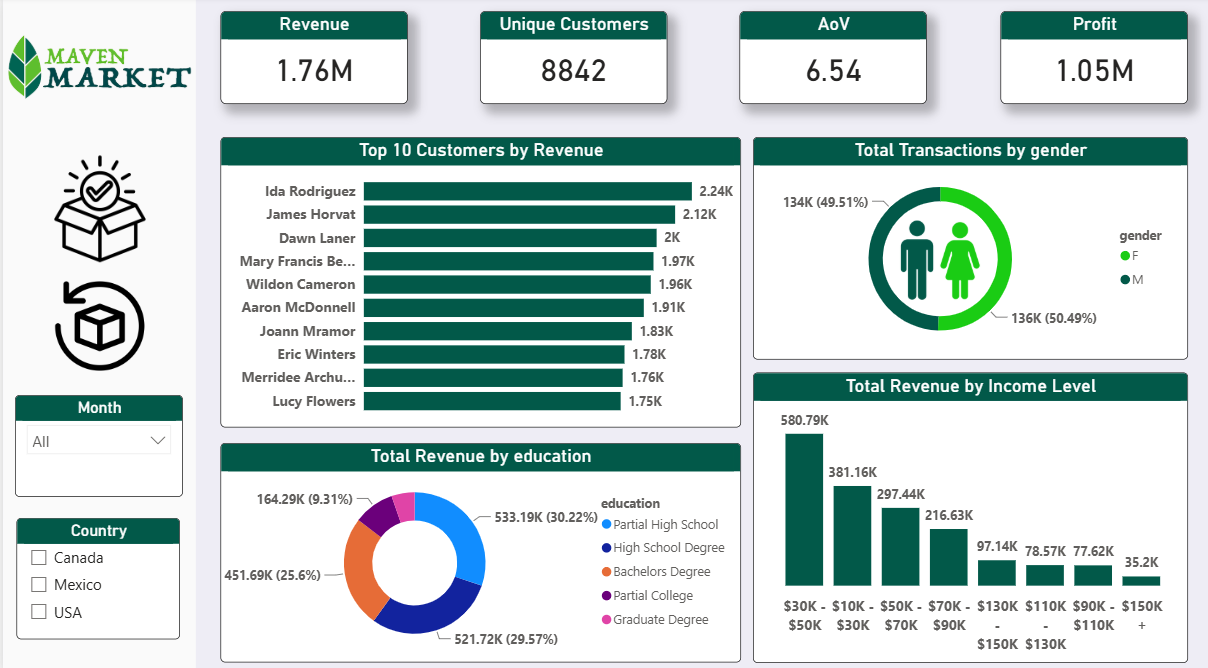

The dashboard page shown, as its layout file describes it:
{"tool":"powerbi","page":{"name":"Customers","canvas":[1280,720],"ordinal":3},"visuals":[{"type":"image","box":[0,0,203.3,150],"z":0},{"type":"card","title":"Revenue","fields":{"Values":["_measures.Total Revenue"]},"box":[230,16.7,198.3,98.3],"z":1000},{"type":"card","title":"AoV","fields":{"Values":["_measures.Average orderr value"]},"box":[781.7,15.9,198.8,98.6],"z":2000},{"type":"card","title":"Profit","fields":{"Values":["_measures.Profit"]},"box":[1057.8,15.9,198.8,98.6],"z":3000},{"type":"card","title":"Unique Customers","fields":{"Values":["_measures.Total Unique Cust"]},"box":[505.6,15.9,198.8,98.6],"z":4000},{"type":"clusteredBarChart","title":"Top 10 Customers by Revenue","fields":{"Y":["_measures.Total Revenue"],"Category":["DimCustomers.Full_Name"]},"box":[230.6,149.3,551.8,308],"z":5000},{"type":"clusteredColumnChart","title":"Total Revenue by Income Level","fields":{"Category":["DimCustomers.yearly_income"],"Y":["_measures.Total Revenue"]},"box":[795.6,398.7,461.1,308],"z":6000},{"type":"donutChart","fields":{"Category":["DimCustomers.education"],"Y":["_measures.Total Revenue"]},"box":[230.6,474.3,551.8,232.4],"z":7000},{"type":"donutChart","fields":{"Category":["DimCustomers.gender"],"Y":["_measures.Total Transactions"]},"box":[795.6,149.3,461.1,236.2],"z":8000},{"type":"image","box":[927.3,227.5,84.3,105],"z":9000},{"type":"image","box":[971.9,216.3,85.9,128.8],"z":10000},{"type":"slicer","title":"Country","fields":{"Values":["DimStores.store_country"]},"box":[14.3,553.5,173.4,128.8],"z":11000},{"type":"slicer","title":"Month","fields":{"Values":["DimCalendar.Month"]},"box":[12.7,423.1,178.1,108.2],"z":12000},{"type":"image","box":[46.7,166.7,113.3,116.7],"z":13000},{"type":"image","box":[49.3,300.6,106.6,98.6],"z":14000}]}

Visuals, with their boxes in screenshot pixels (x1, y1, x2, y2), scaled from the page's 1280x720 canvas onto the 1208x668 screenshot:
image: region(0, 0, 192, 139)
"Revenue" card: region(217, 15, 404, 107)
"AoV" card: region(738, 15, 925, 106)
"Profit" card: region(998, 15, 1186, 106)
"Unique Customers" card: region(477, 15, 665, 106)
"Top 10 Customers by Revenue" clusteredBarChart: region(218, 139, 738, 424)
"Total Revenue by Income Level" clusteredColumnChart: region(751, 370, 1186, 656)
donutChart - DimCustomers.education x _measures.Total Revenue: region(218, 440, 738, 656)
donutChart - DimCustomers.gender x _measures.Total Transactions: region(751, 139, 1186, 358)
image: region(875, 211, 955, 308)
image: region(917, 201, 998, 320)
"Country" slicer: region(13, 514, 177, 633)
"Month" slicer: region(12, 393, 180, 493)
image: region(44, 155, 151, 263)
image: region(47, 279, 147, 370)
